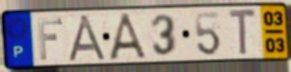3: (149, 13, 178, 58)
5: (193, 10, 224, 57)
A: (107, 12, 152, 61), (66, 13, 110, 63)
F: (36, 17, 65, 61)
T: (227, 7, 258, 58)
